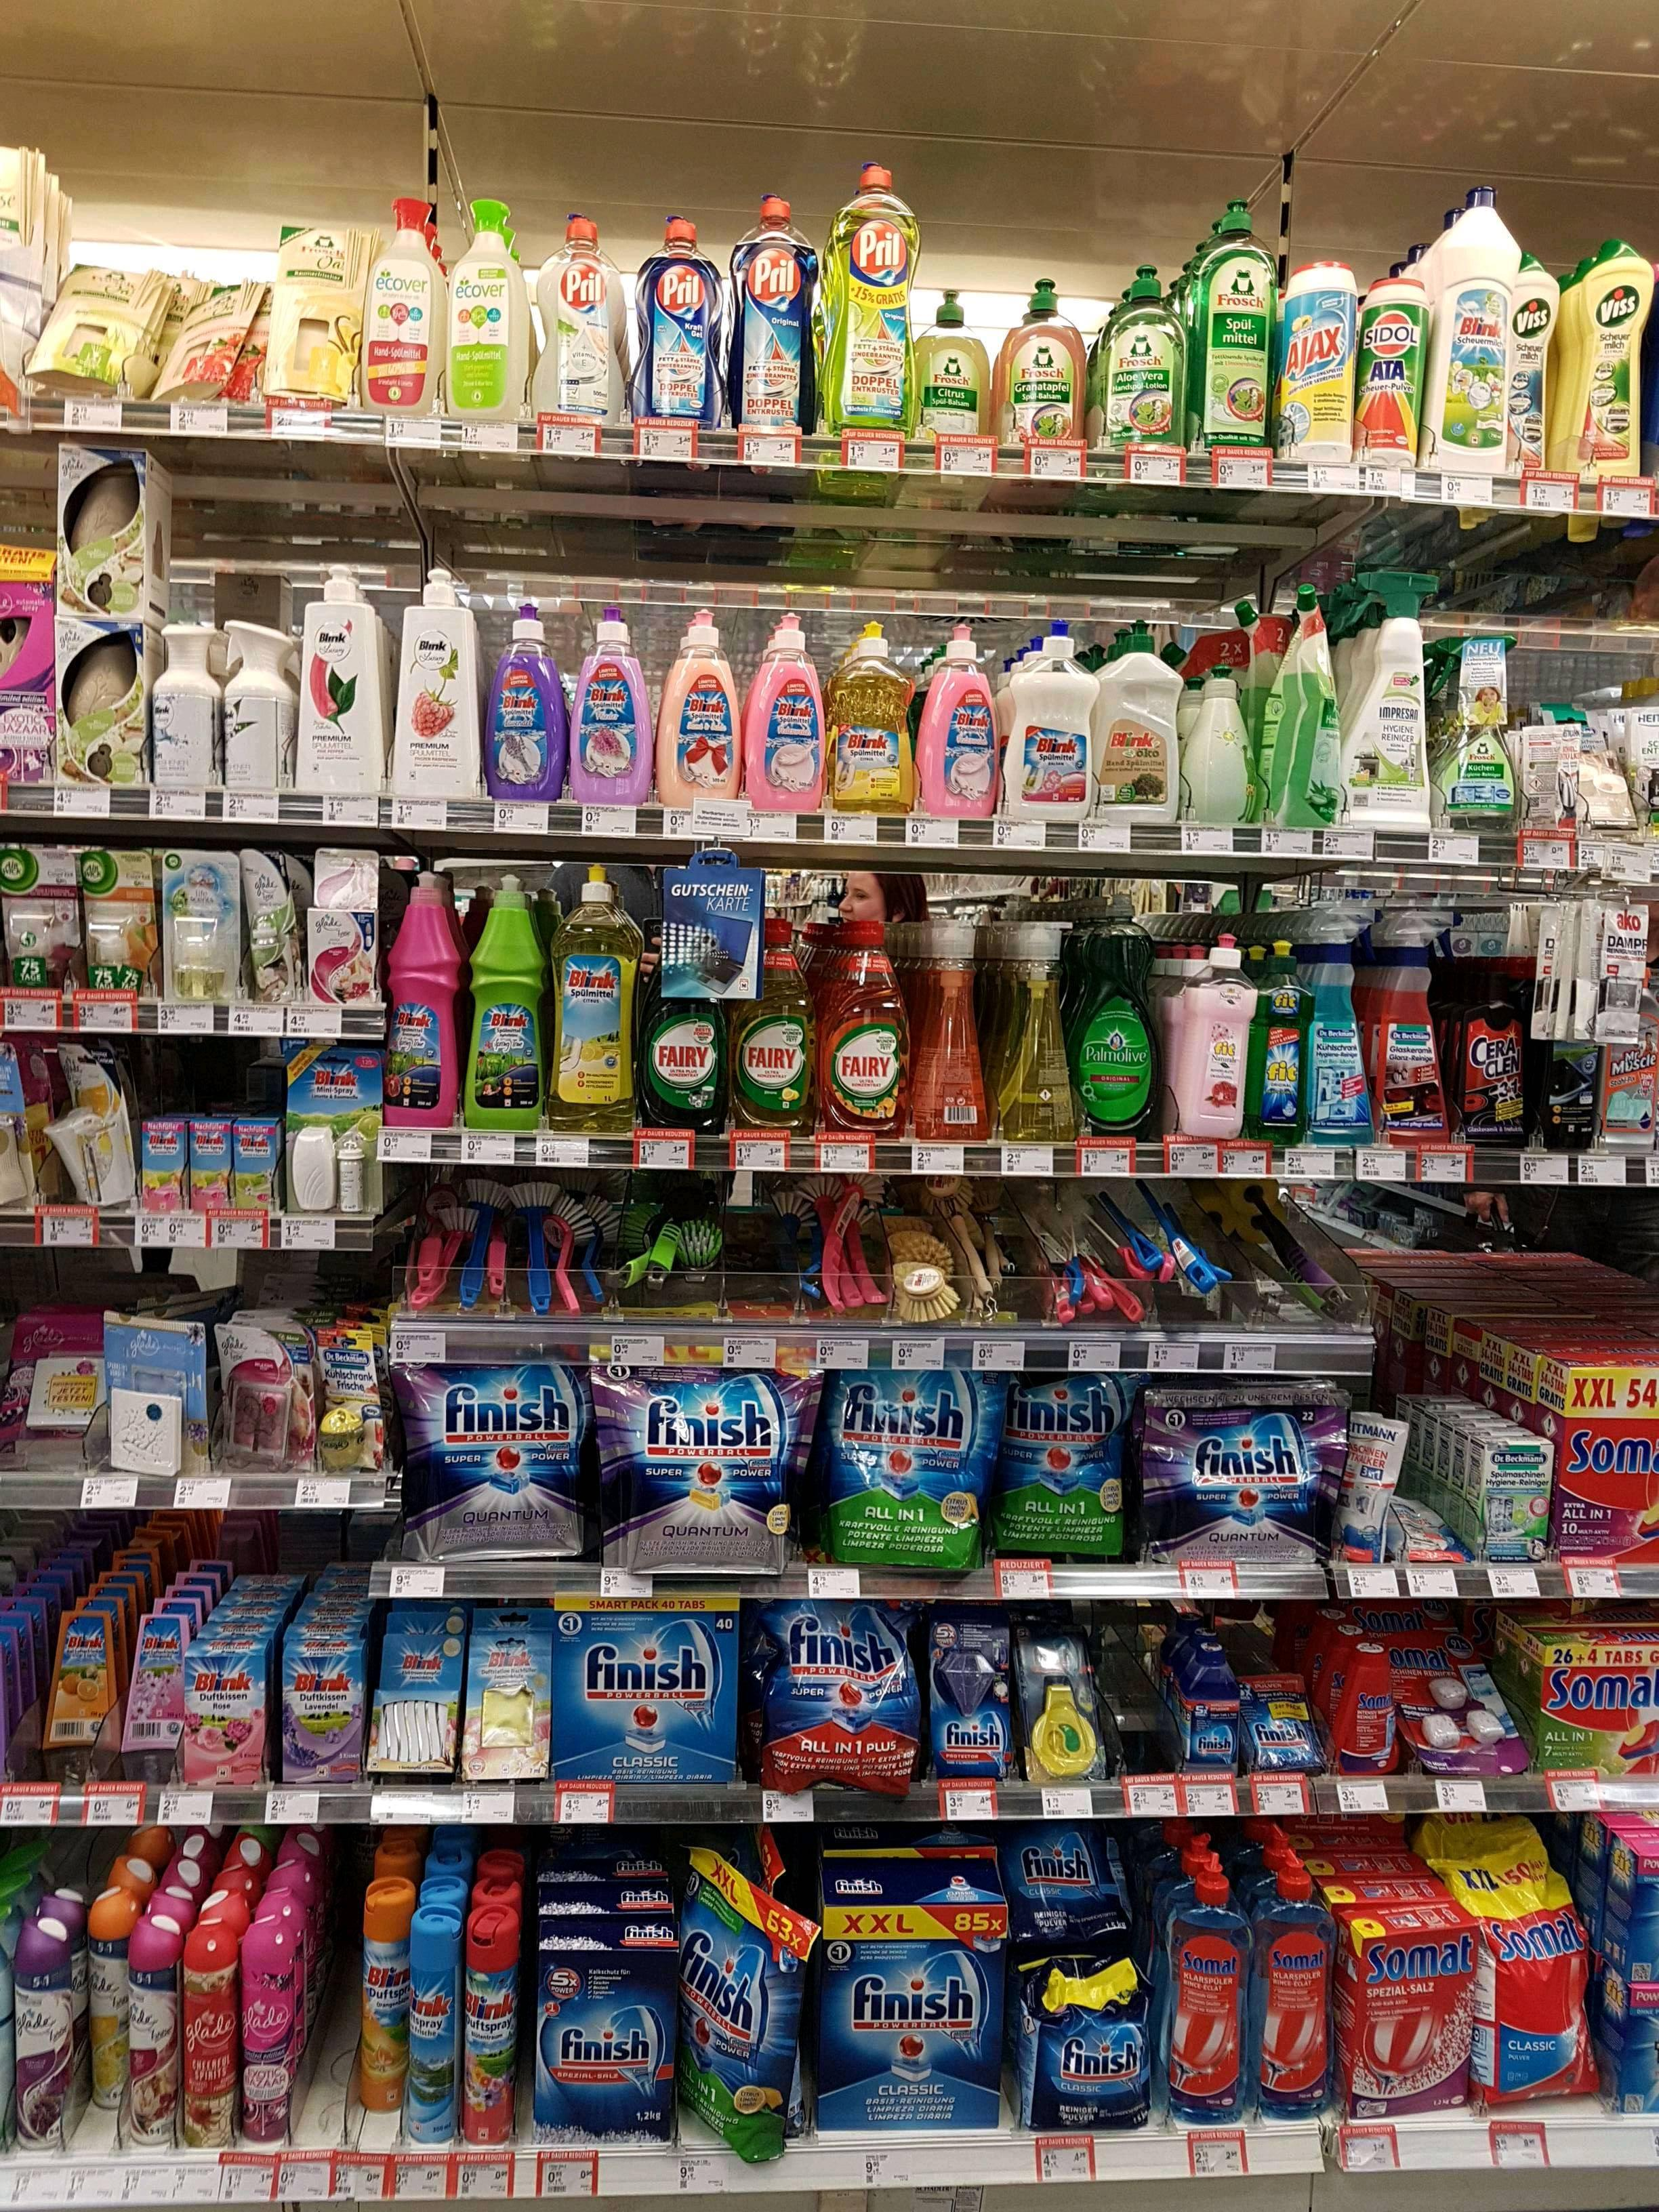misalignment: (678, 1843, 814, 2161), (99, 1299, 225, 1486), (38, 1040, 139, 1216), (216, 1317, 310, 1465), (1330, 1395, 1408, 1564), (1385, 1472, 1466, 1568)
